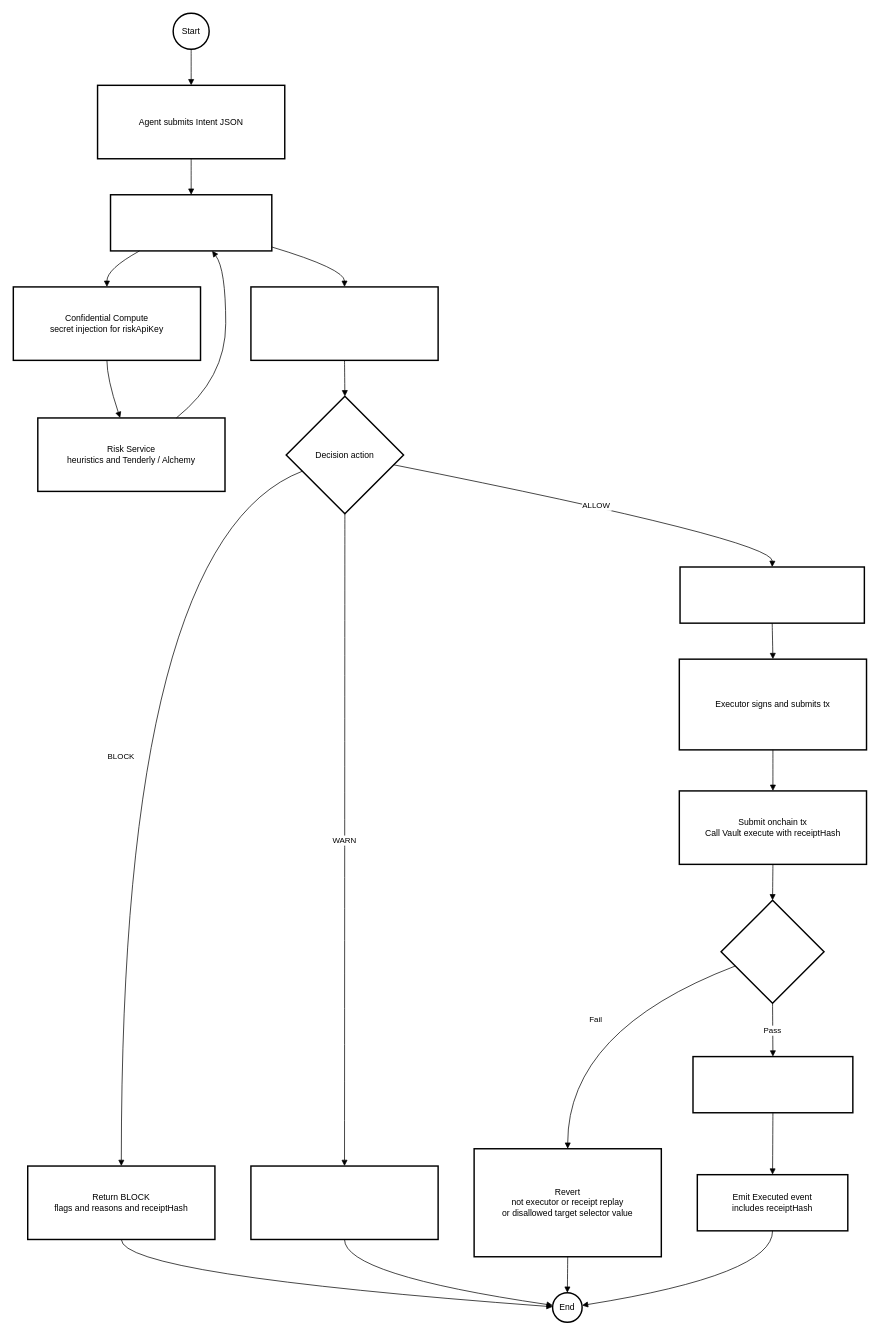
Image size: 879x1335. Some labels were removed from this diagram. The box of each missing label's shape, as (x1, y1, x2, y2) in pixels:
CRE workflow simulate walletguard-intent: (109, 194, 272, 251)
Execute target call mark usedReceiptHash: (692, 1056, 853, 1113)
Return ALLOW receiptHash and tx payload: (679, 566, 865, 624)
Return WARN flags and reasons and receiptHash: (250, 1165, 438, 1240)
Vault checks: (720, 899, 824, 1004)
Workflow output Decision and VaultReceipt and receiptHash: (250, 286, 438, 361)
